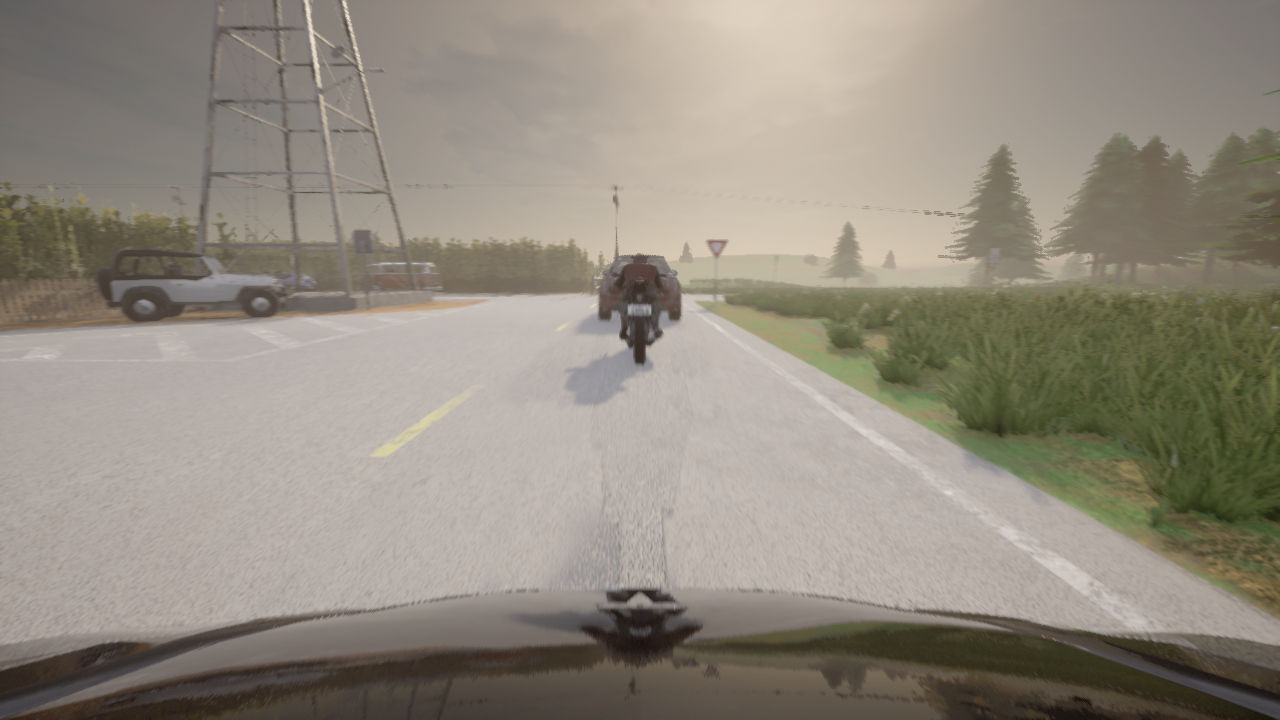cyclist: (0, 588, 1279, 719), (97, 248, 292, 322), (599, 255, 680, 319), (613, 274, 666, 364), (360, 262, 441, 292), (261, 271, 315, 290)
